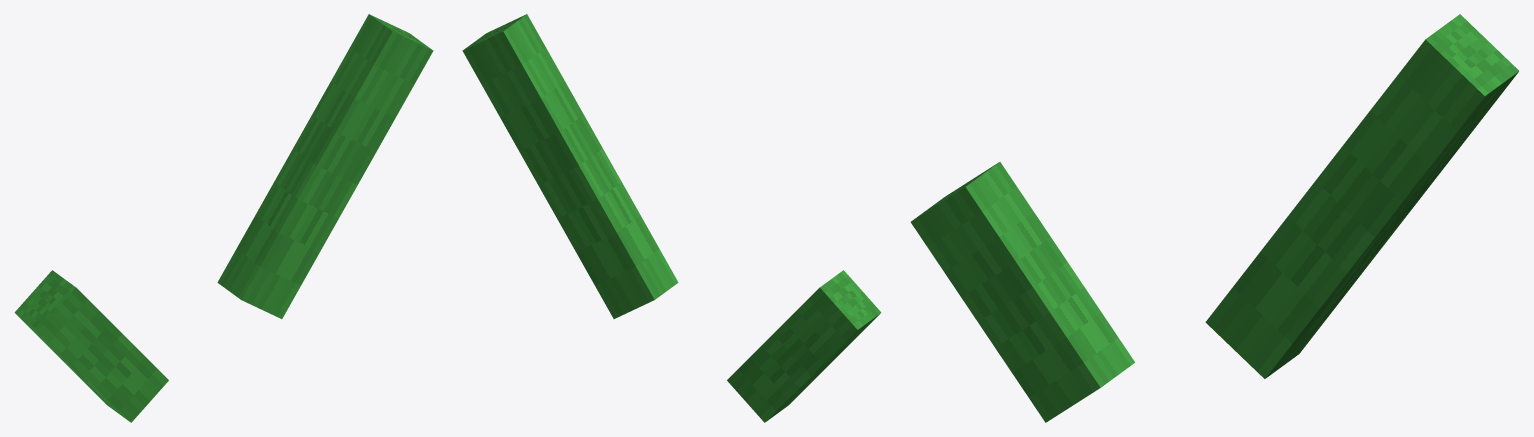
The model's file is check.glb.
The picture shows the model from 3 angles, left to right: view 1: azimuth 30°, elevation 25°; view 2: azimuth 150°, elevation 25°; view 3: azimuth 330°, elevation 25°; orthographic projection. The views are drawn at different scales.
Parts seen in each view (by area): view 1: check; view 2: check; view 3: check.
Boxes of the visible parts, x1,y1,x2,y2 form: check: (14,14,433,422); check: (462,14,881,422); check: (910,14,1518,422).
Bounding box in the file's own units: 0.9579 × 0.759 × 0.1.
Materials: 1 (1 with a texture image).
